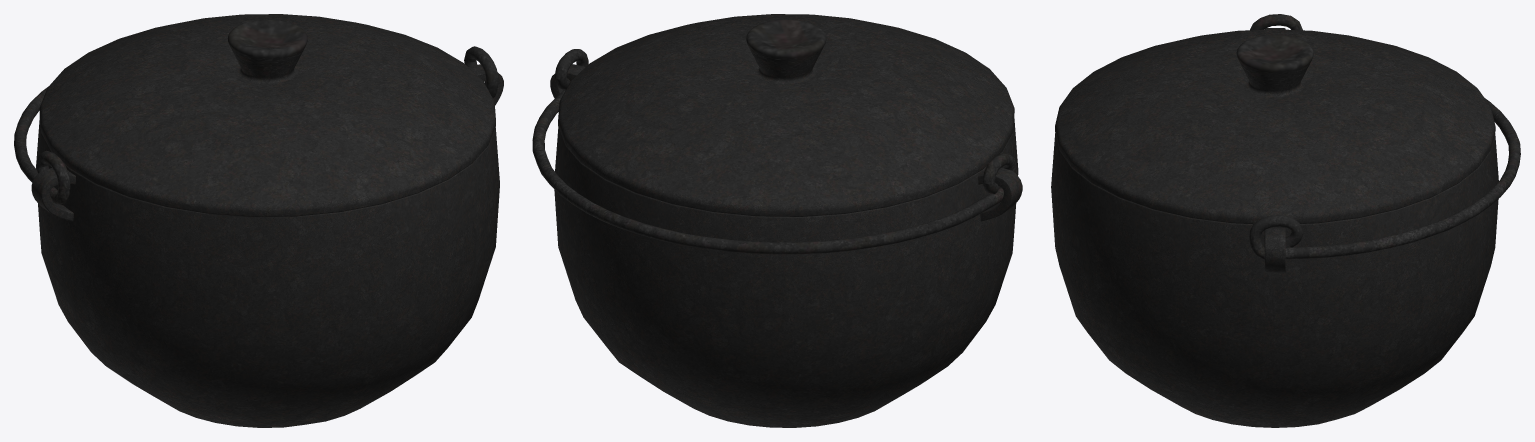
Rendered from campfire pot.fbx.
3 views of the same model, side by side, from view 1: azimuth 30°, elevation 25°; view 2: azimuth 150°, elevation 25°; view 3: azimuth 270°, elevation 25° (orthographic). The views are drawn at different scales.
Visible parts, largest first — view 1: pot, lid, handle; view 2: pot, lid, handle; view 3: pot, lid, handle.
Part boxes in pixels (x1,y1,x2,y2): pot: (31,64,503,427); lid: (39,14,495,216); handle: (14,46,498,204); pot: (550,64,1022,427); lid: (558,14,1014,216); handle: (532,49,1016,254); pot: (1051,28,1498,427); lid: (1055,29,1495,224); handle: (1249,14,1520,259).
Bounding box in the file's own units: 121 × 133 × 95.06.
